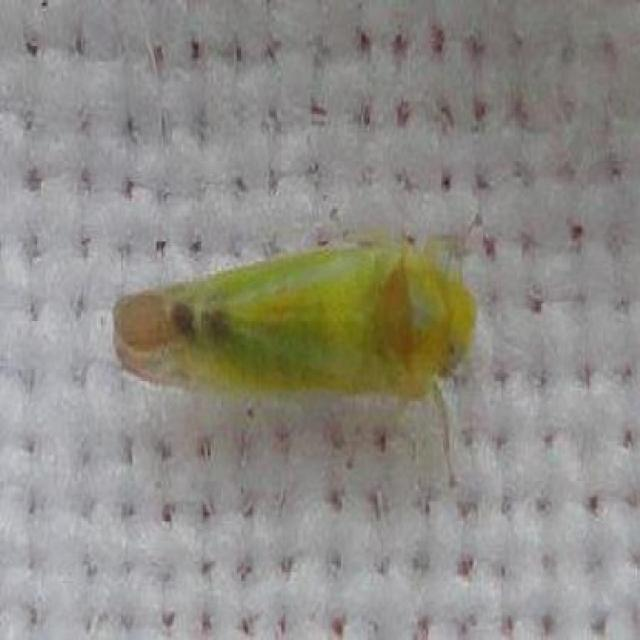green-leafhopper: (114, 241, 480, 482)
